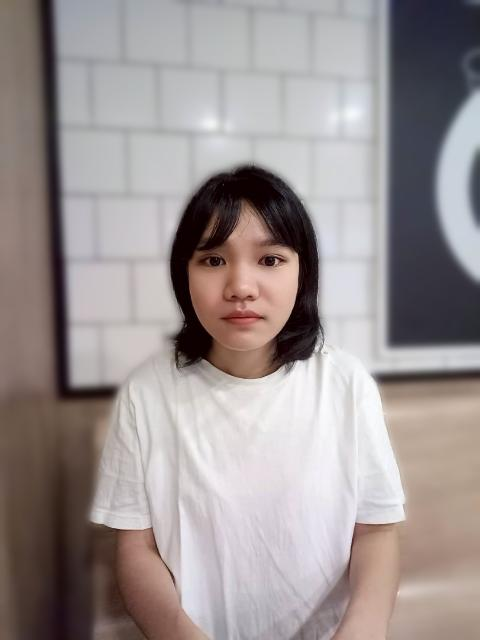fokus: (184, 196, 302, 354)
